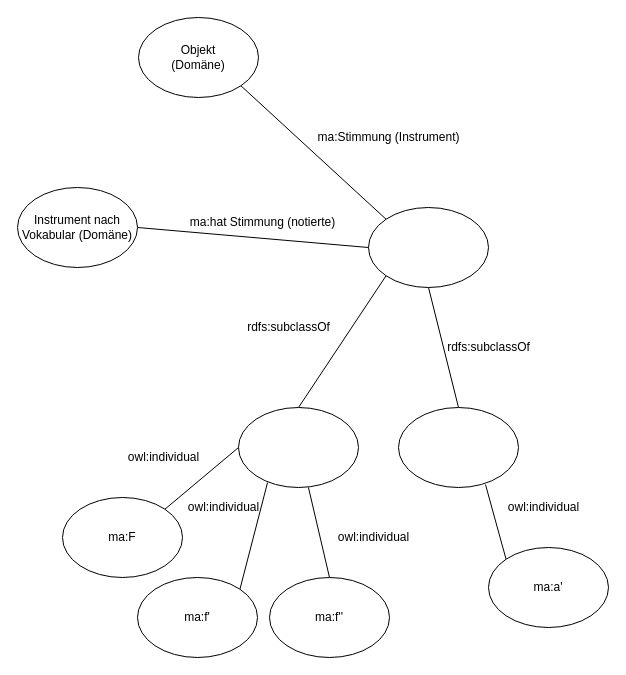
Some shapes in this 626 by 675 pixel diagram are drawn without their labels. The shapes that lost their labels are listed below. From the top down, each one's centre as x and y in pixels, then its label:
At pixel 428 247: "ma:Ton".
At pixel 298 447: "ma:F(Tonkomplex)".
At pixel 458 447: "ma:A(Tonkomplex)".
